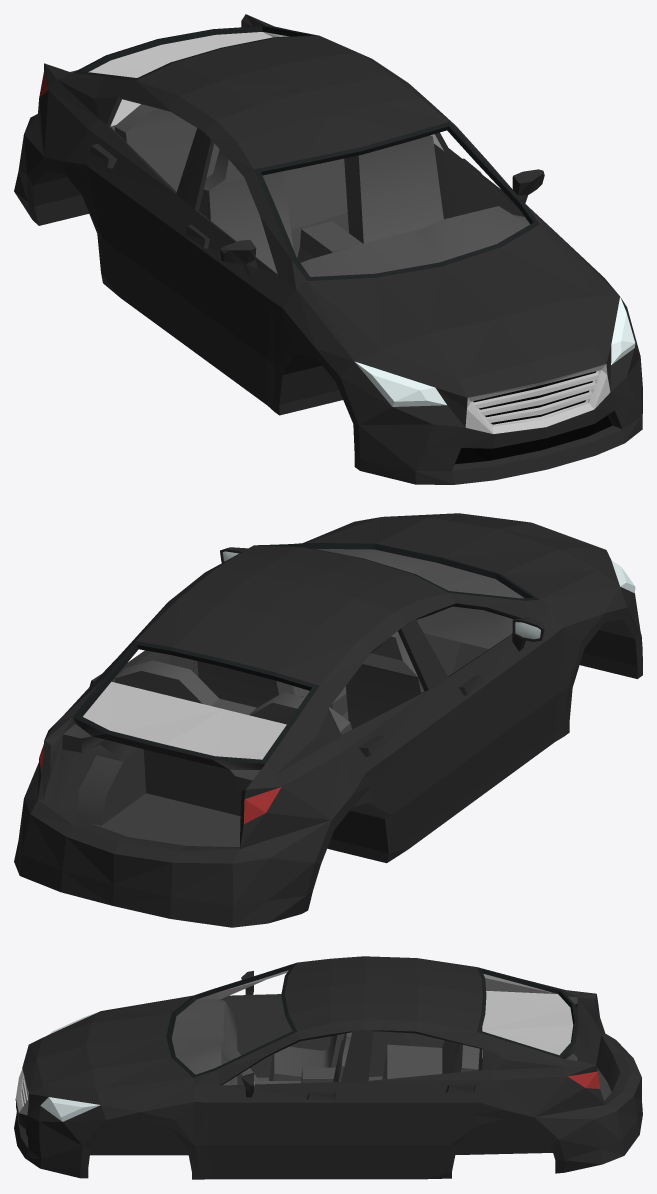
The model's file is CutsceneSedan.FBX.
3 views of the same model, one above another, from view 1: azimuth 30°, elevation 25°; view 2: azimuth 150°, elevation 25°; view 3: azimuth 270°, elevation 25° (orthographic). The views are drawn at different scales.
Visible parts, largest first — view 1: CutsceneSedan, CutsceneSedanDoor; view 2: CutsceneSedan; view 3: CutsceneSedan, CutsceneSedanDoor.
Boxes of the visible parts, x1=… form: CutsceneSedan: x1=14, y1=14, x2=642, y2=484; CutsceneSedanDoor: x1=435, y1=132, x2=544, y2=217; CutsceneSedan: x1=14, y1=513, x2=642, y2=927; CutsceneSedan: x1=14, y1=956, x2=642, y2=1179; CutsceneSedanDoor: x1=208, y1=1030, x2=361, y2=1171.
Bounding box in the file's own units: 0.0636 × 0.1478 × 0.0378.
1 material, 1 textured.
